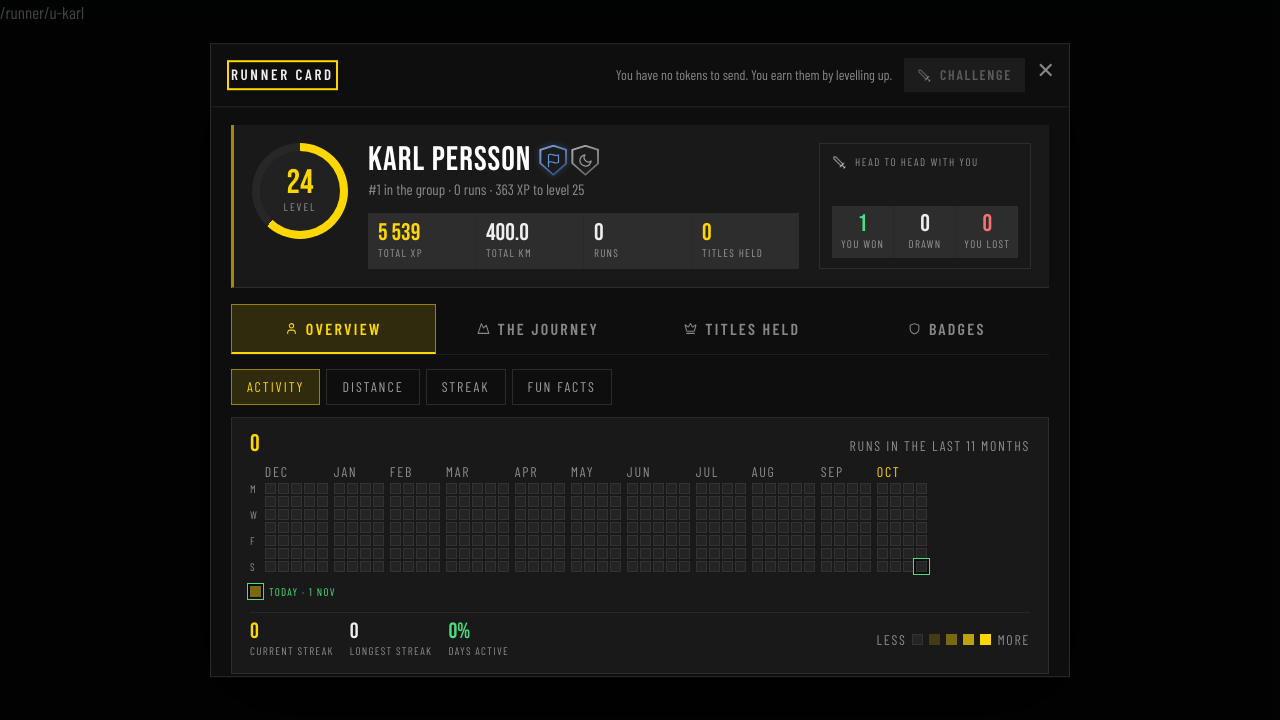
Test: the Badges tab of the popup › badges tab shows only earned series
Check: the heading "Karl Persson" is shown, box x1=368 y1=144 x2=531 y2=178
What coordinates should you click on to do the following:
click the tab "Badges"
I would click on:
 (947, 329)
Its box is x1=844 y1=304 x2=1049 y2=354.
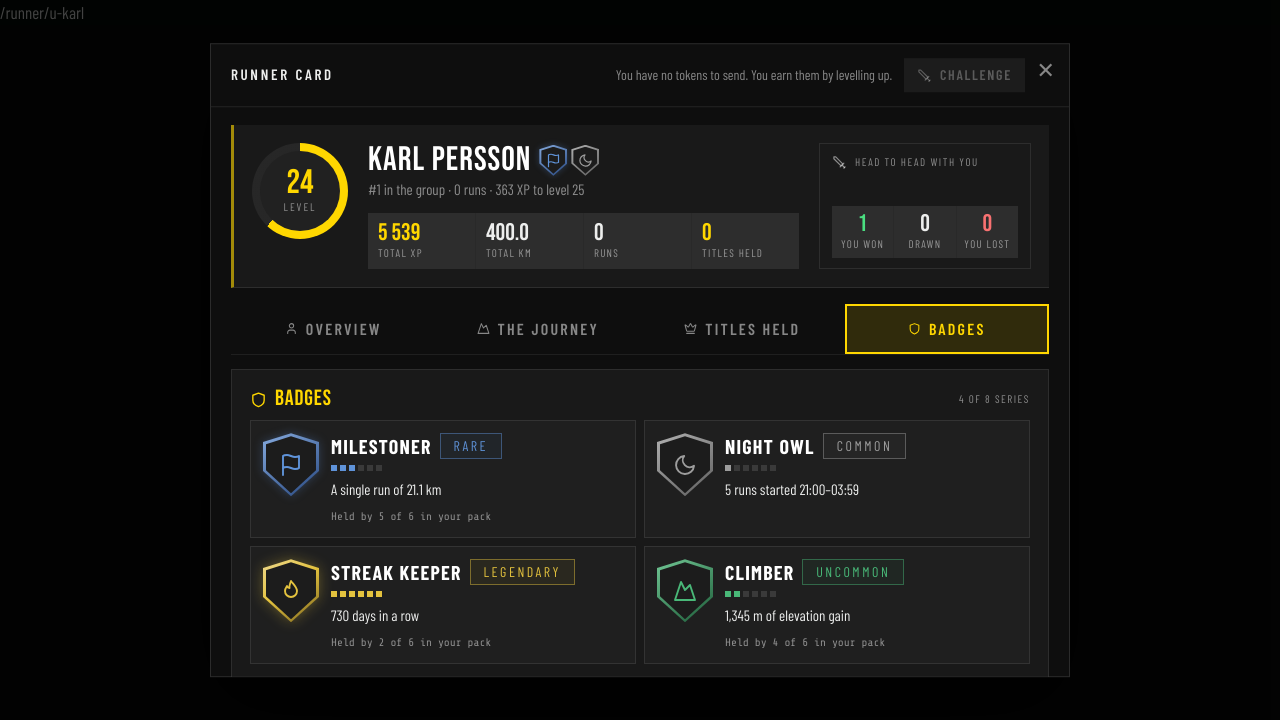
Check: the heading "BADGES" is shown, box x1=275 y1=388 x2=332 y2=410
